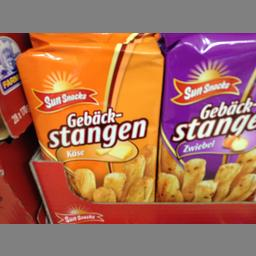chips: (15, 42, 159, 201), (158, 36, 255, 202)
